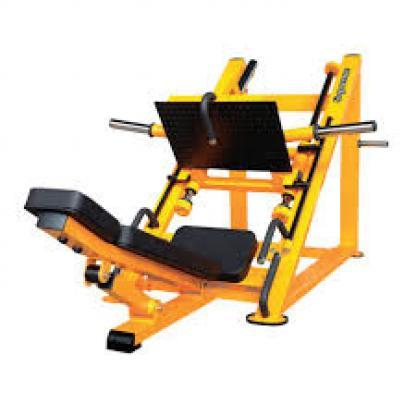leg press: (11, 28, 397, 358)
